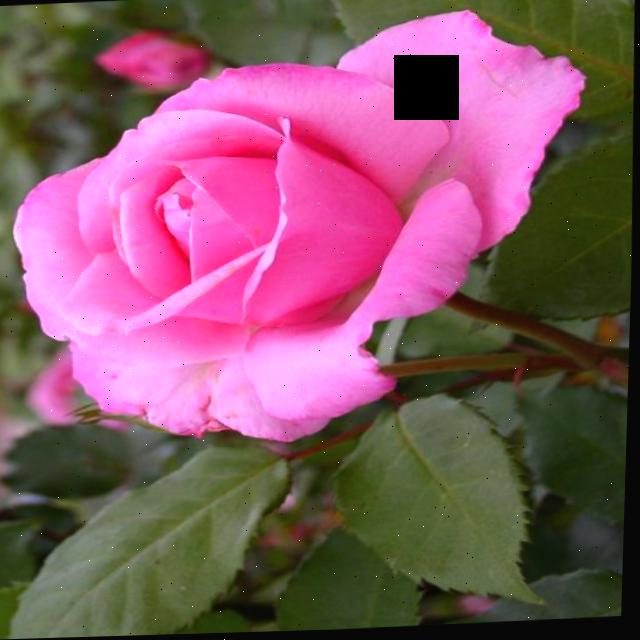rose: (0, 0, 593, 478)
